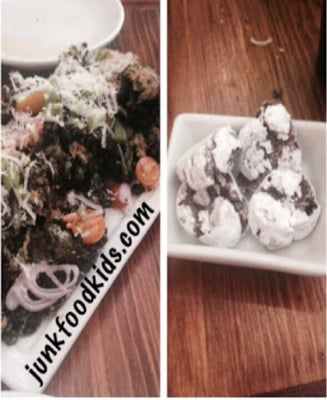sushi: (1, 28, 161, 389), (1, 0, 125, 75)
